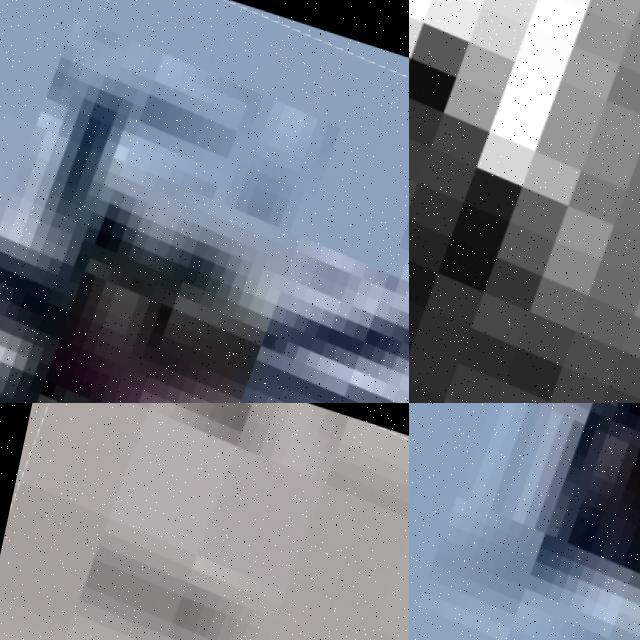drone: (0, 0, 409, 403), (0, 403, 409, 640), (409, 0, 640, 403), (409, 403, 640, 640)
